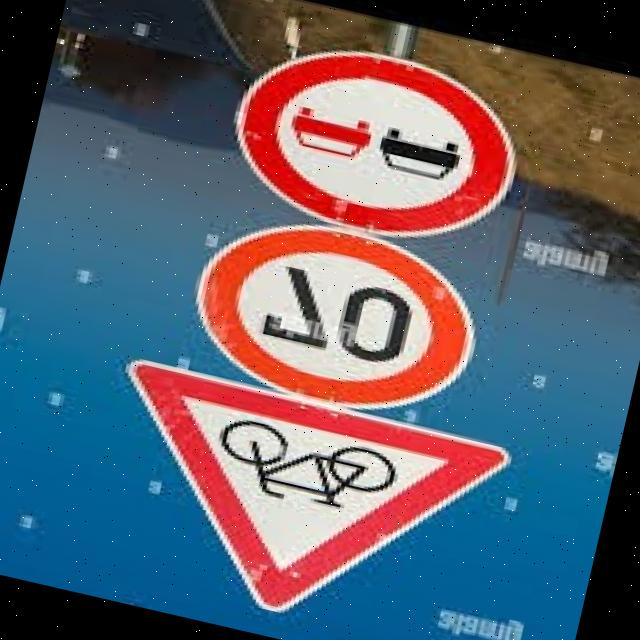speed_limit_70: (162, 192, 515, 441)
